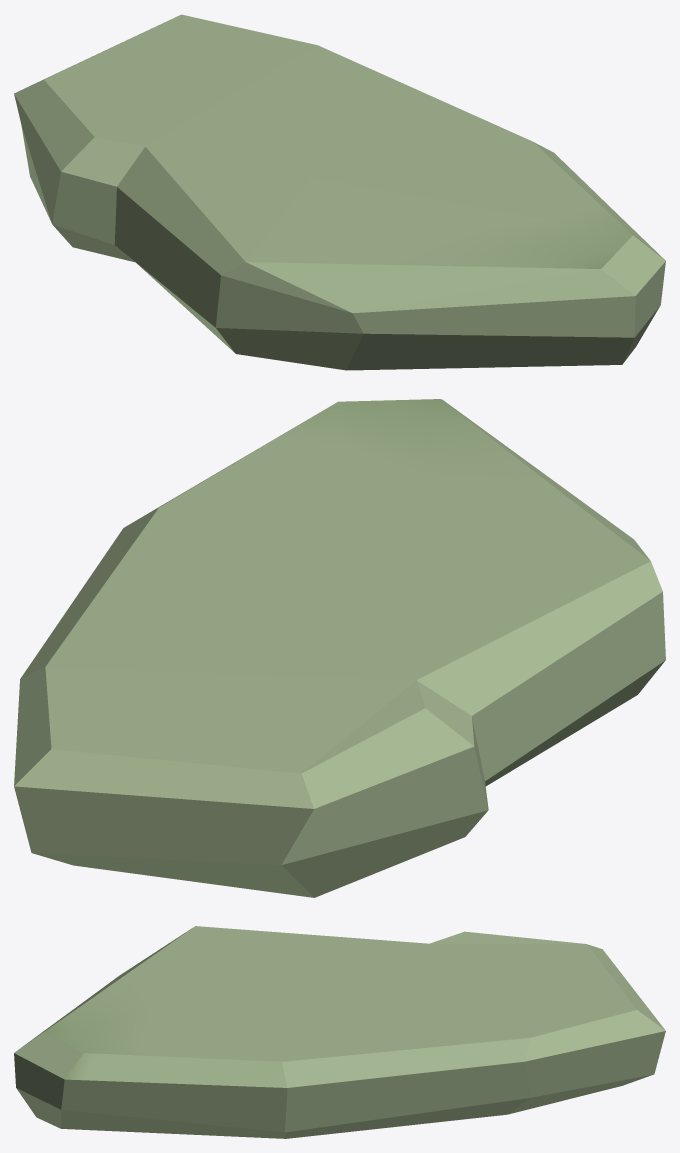
Rendered from EA_Swamp_RockBig_01c.glb.
3 views of the same model, one above another, from view 1: azimuth 30°, elevation 25°; view 2: azimuth 150°, elevation 25°; view 3: azimuth 270°, elevation 25° (orthographic). The views are drawn at different scales.
Parts seen in each view (by area): view 1: EA_Swamp_RockBig_01c; view 2: EA_Swamp_RockBig_01c; view 3: EA_Swamp_RockBig_01c.
Boxes of the visible parts, left/top/right/bottom form: EA_Swamp_RockBig_01c: left=14, top=14, right=665, bottom=370; EA_Swamp_RockBig_01c: left=14, top=399, right=665, bottom=897; EA_Swamp_RockBig_01c: left=14, top=926, right=665, bottom=1138.
Size of the model in its own units: 3.64 by 0.8887 by 6.38.
Materials: 1 (1 with a texture image).
